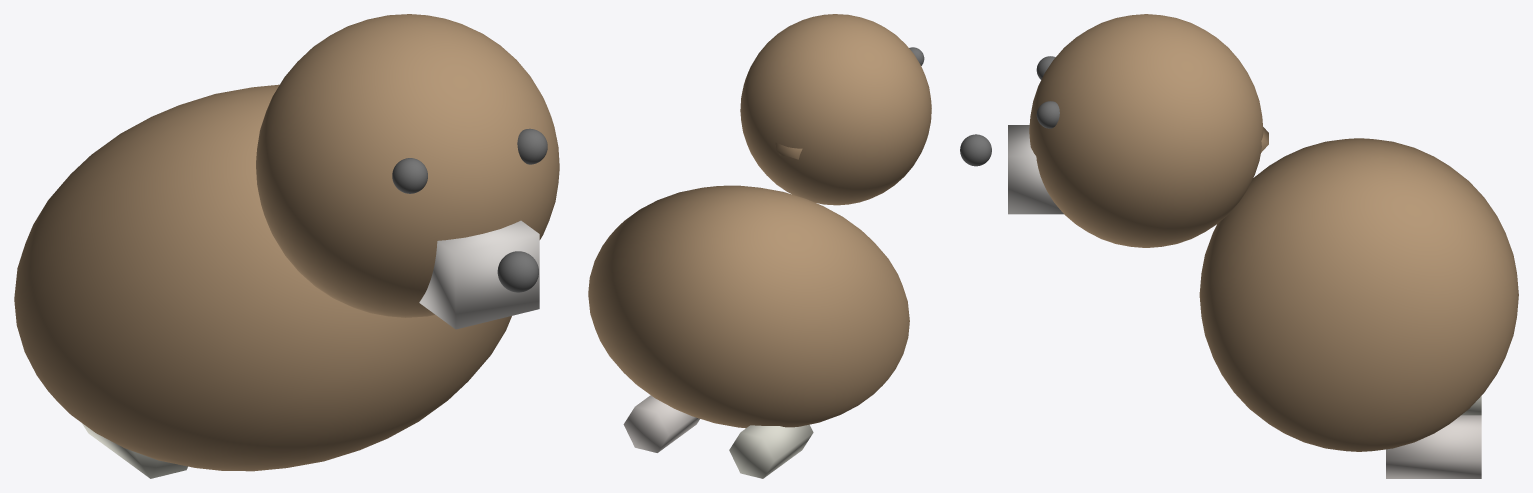
File: lifecycle_dog_baby.glb
3 views of the same model, side by side, from view 1: azimuth 30°, elevation 25°; view 2: azimuth 150°, elevation 25°; view 3: azimuth 270°, elevation 25° (orthographic). The views are drawn at different scales.
Parts seen in each view (by area): view 1: body, head, snout, nose, leg-1, eye-1, eye1; view 2: body, head, leg-1, leg1; view 3: body, head, leg1, snout, nose.
Boxes of the visible parts, left/top/right/bottom form: body: left=14, top=84, right=511, bottom=471; head: left=256, top=14, right=559, bottom=317; snout: left=419, top=220, right=539, bottom=329; nose: left=497, top=251, right=538, bottom=292; leg-1: left=82, top=423, right=187, bottom=478; eye-1: left=392, top=158, right=427, bottom=193; eye1: left=517, top=128, right=547, bottom=164; body: left=588, top=185, right=909, bottom=428; head: left=740, top=14, right=931, bottom=205; leg-1: left=729, top=424, right=813, bottom=478; leg1: left=623, top=395, right=699, bottom=452; body: left=1199, top=138, right=1518, bottom=451; head: left=1029, top=14, right=1263, bottom=247; leg1: left=1386, top=415, right=1481, bottom=478; snout: left=1008, top=125, right=1063, bottom=214; nose: left=960, top=134, right=991, bottom=166.
Bounding box in the file's own units: 0.39 × 0.431 × 0.525.
